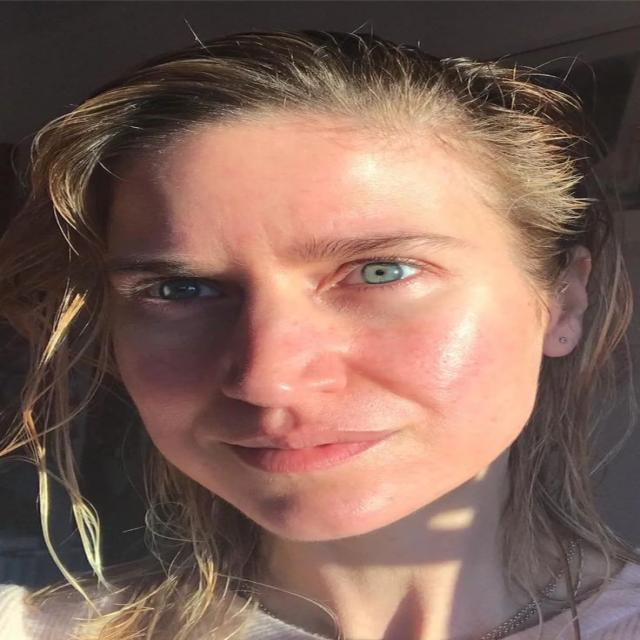oily: (380, 304, 566, 422), (220, 132, 490, 210), (174, 342, 298, 462), (298, 469, 386, 547), (136, 150, 188, 246)
